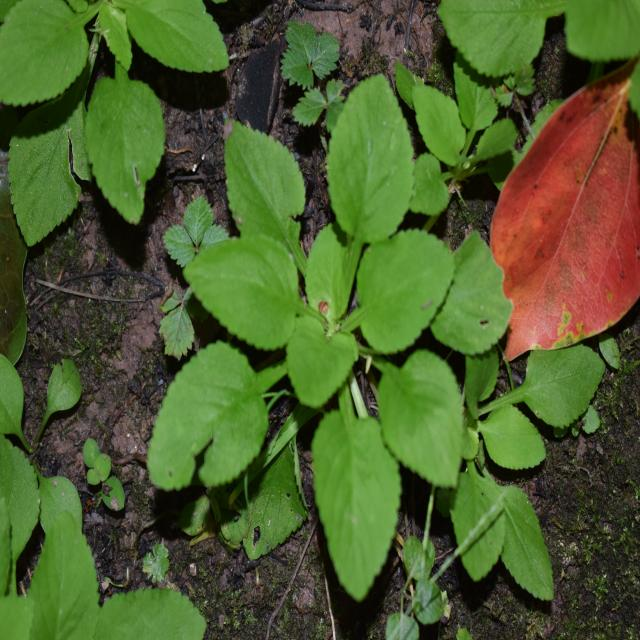Viola: (198, 94, 465, 576)
